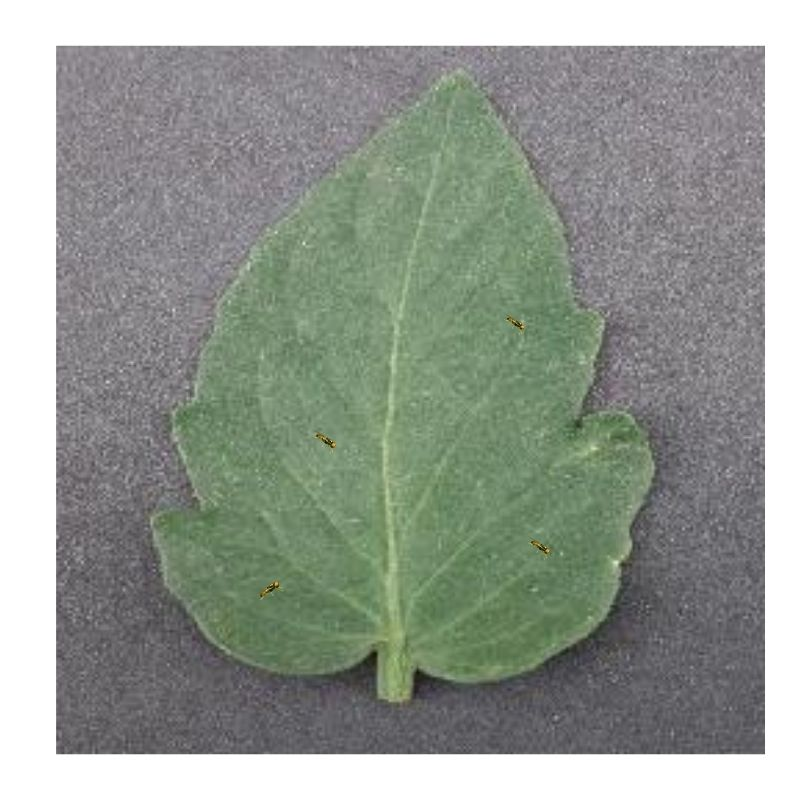liriomyza: (311, 428, 339, 455), (257, 577, 287, 601), (528, 535, 553, 561), (502, 310, 527, 334)
